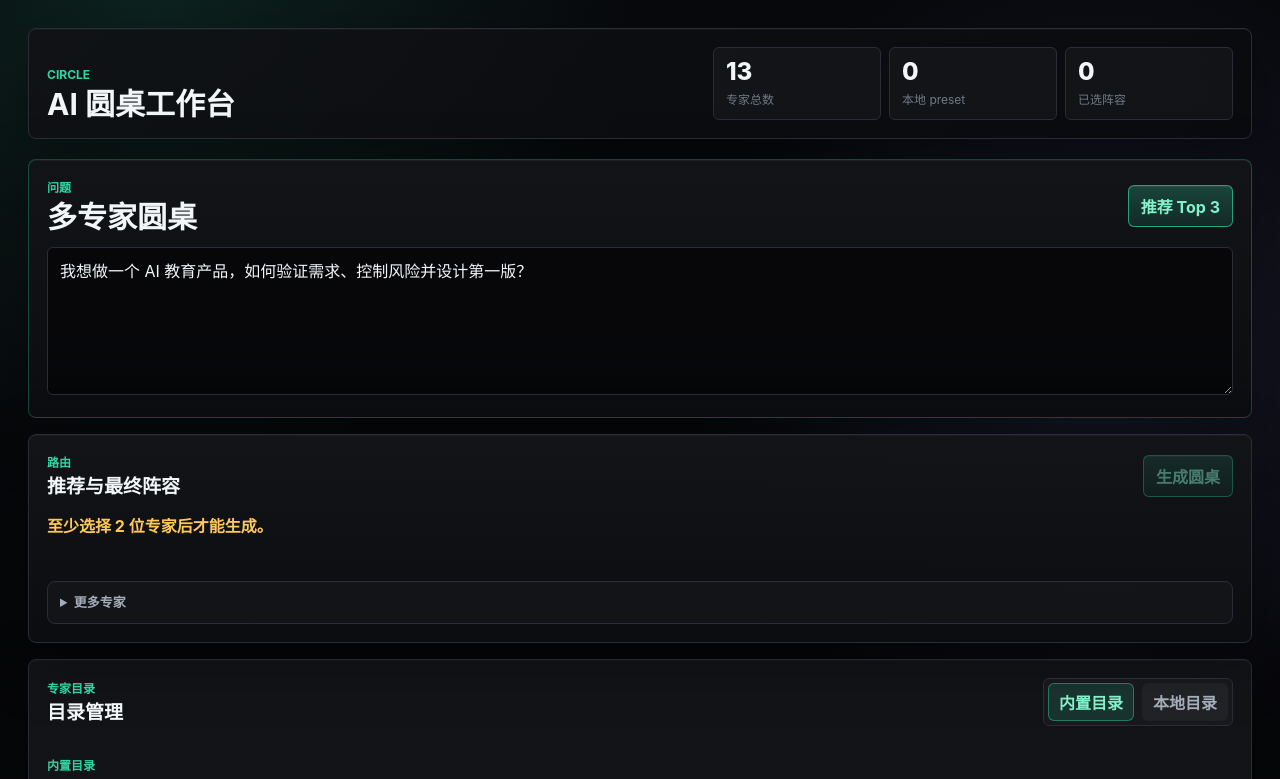
Test case: routing flow › keeps manual expert selection collapsed until the user asks for more experts
Click the heading "更多专家" at (100, 602), box [74,594,126,610]
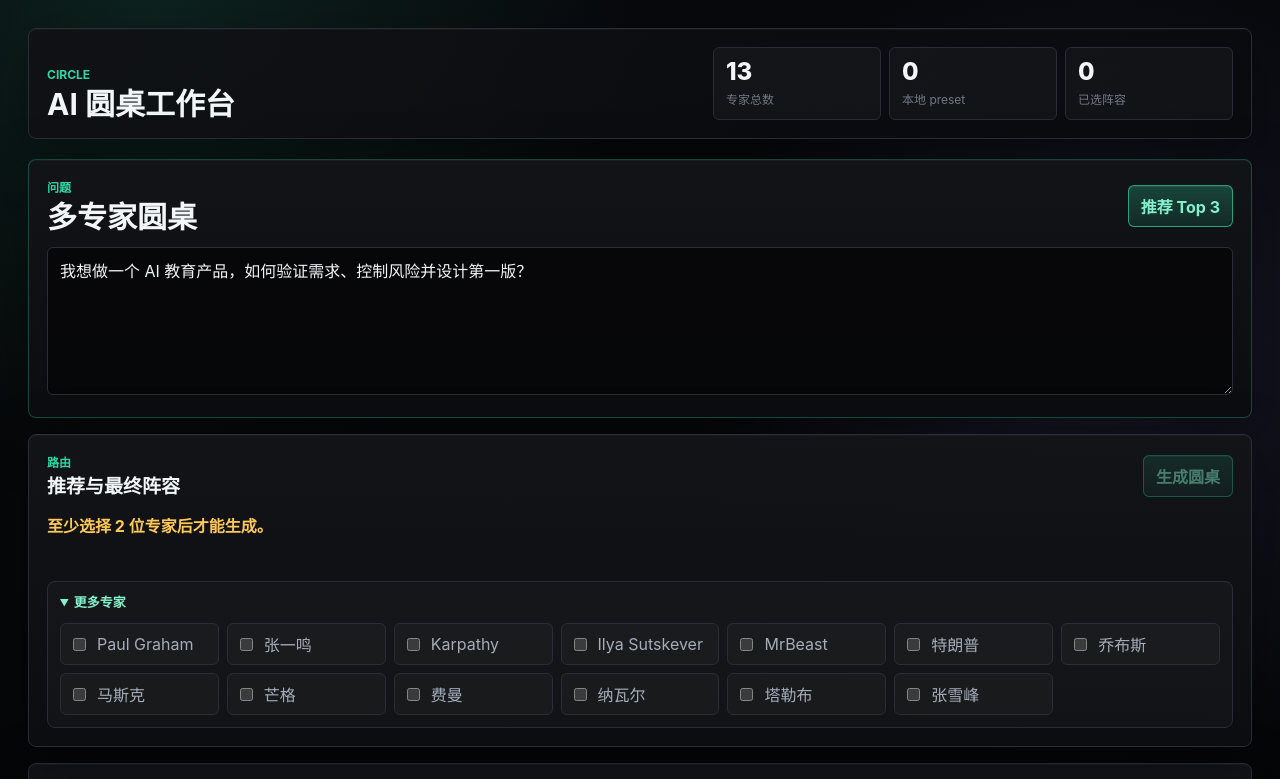
Check: the element named "手动选择专家" shows "Karpathy", box [431,634,499,654]
